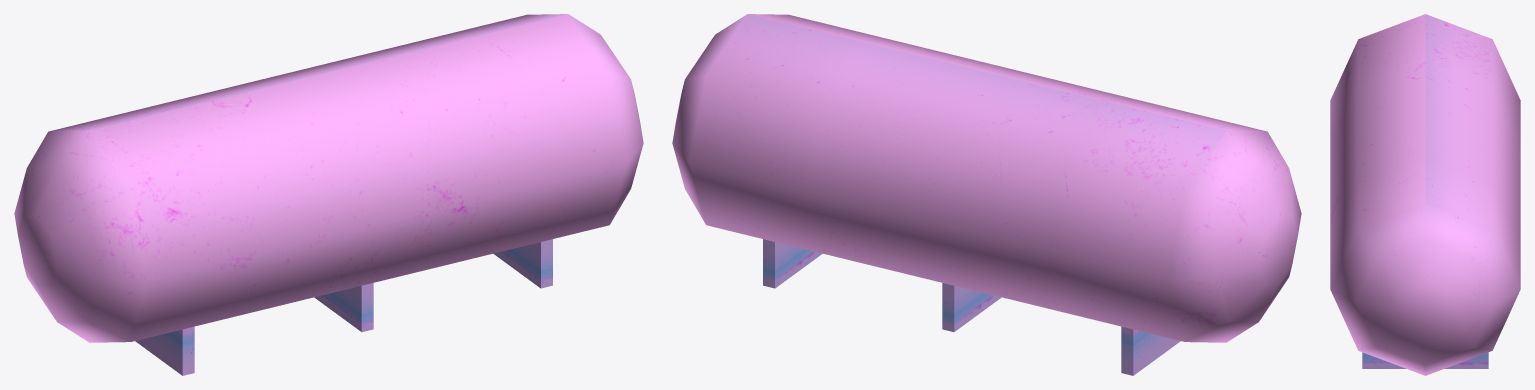
File: Tank_02_SM_Low.fbx
The picture shows the model from 3 angles, left to right: view 1: azimuth 30°, elevation 25°; view 2: azimuth 150°, elevation 25°; view 3: azimuth 270°, elevation 25°; orthographic projection. The views are drawn at different scales.
Parts seen in each view (by area): view 1: Tank02; view 2: Tank02; view 3: Tank02.
Part boxes in pixels (bbox=[...]): Tank02: bbox=[14, 14, 643, 375]; Tank02: bbox=[672, 14, 1301, 375]; Tank02: bbox=[1330, 14, 1520, 375].
Size of the model in its own units: 797 by 300 by 277.
